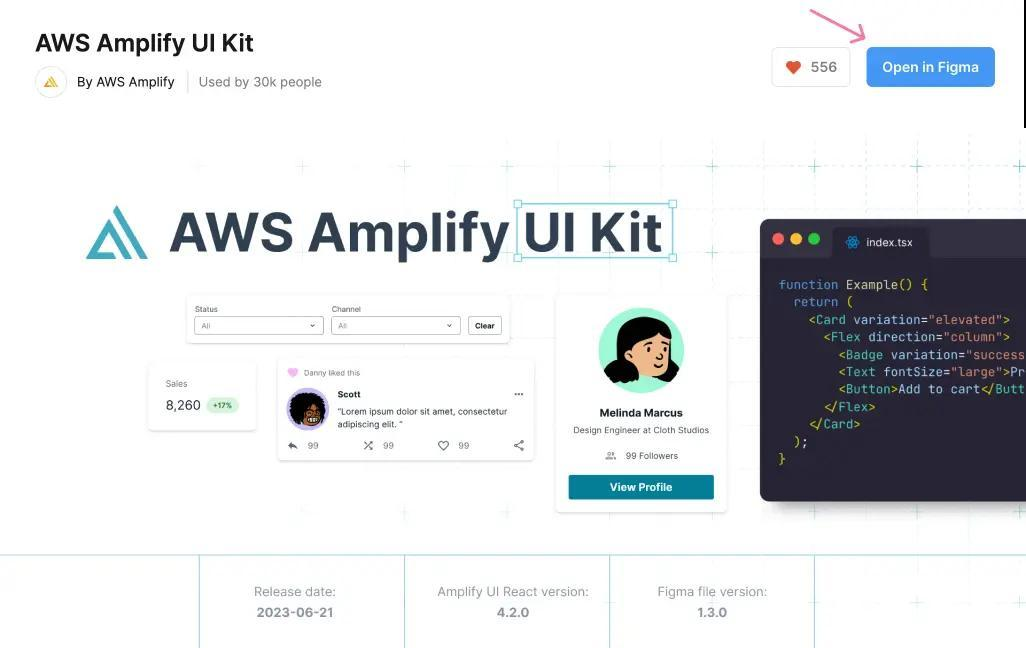button: (866, 47, 996, 88), (569, 475, 716, 502), (773, 48, 853, 88), (469, 317, 503, 336)
dropdown: (195, 316, 325, 337), (331, 317, 463, 336)
icon: (845, 236, 863, 252), (512, 439, 527, 454), (437, 440, 451, 453), (605, 450, 618, 463), (365, 441, 375, 453), (514, 390, 525, 400), (289, 442, 299, 452)
label: (331, 305, 364, 314), (196, 306, 219, 315)
